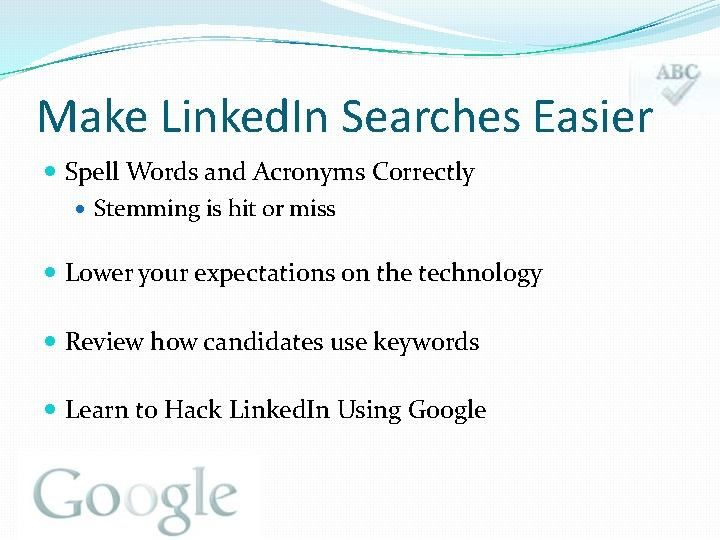paragraph: (39, 155, 579, 446)
title: (22, 80, 662, 154)
